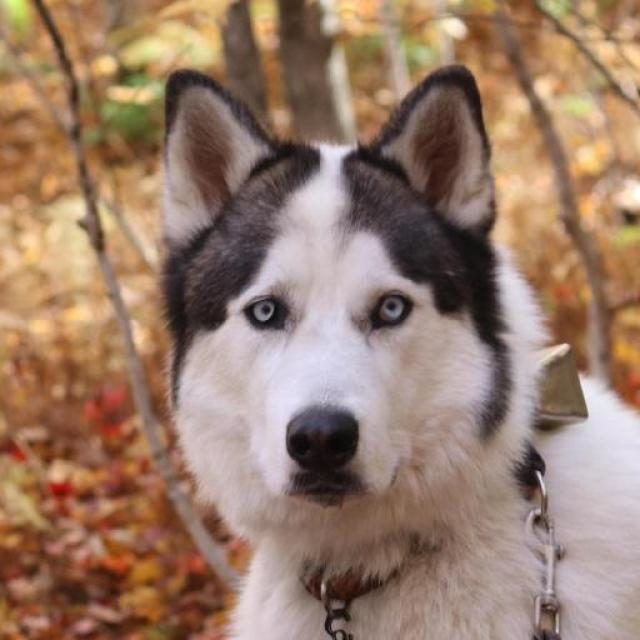relax: (148, 4, 628, 640)
